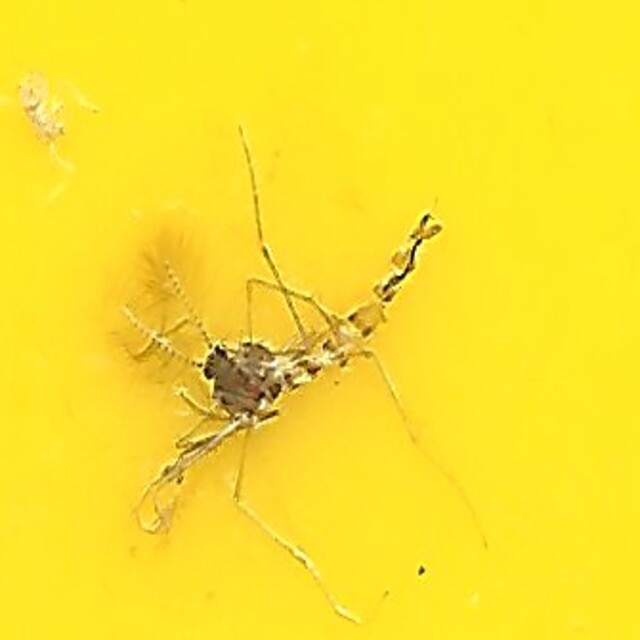Nematocera: (191, 215, 449, 425)
